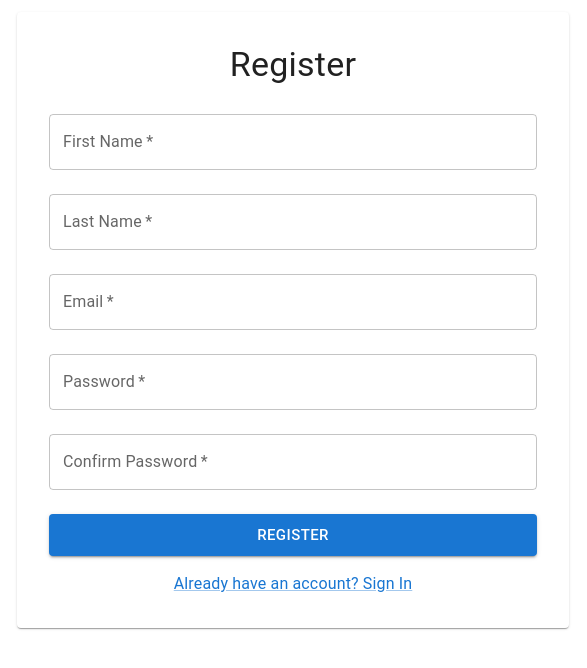
Test: RegisterPage › displays errors on registration failure
The image size is (587, 668).
Type "John" into the field labelled "First Name *" at point(293, 142), box [49,114,537,170]
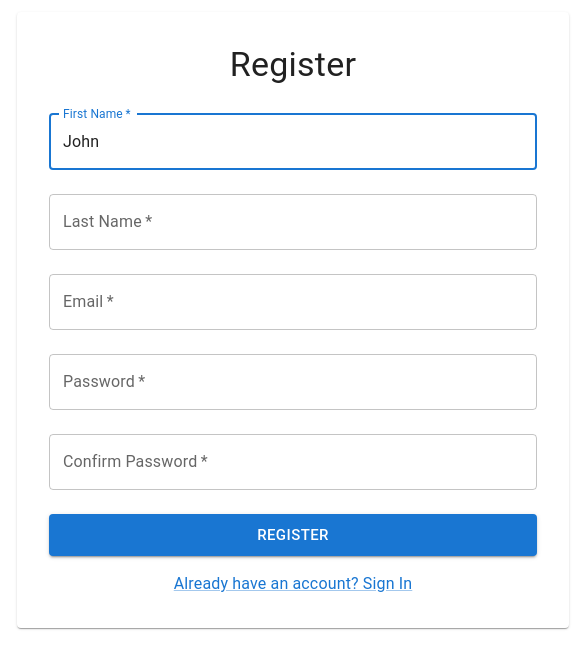
Type "Doe" into the field labelled "Last Name *" at point(293, 222), box [49,194,537,250]
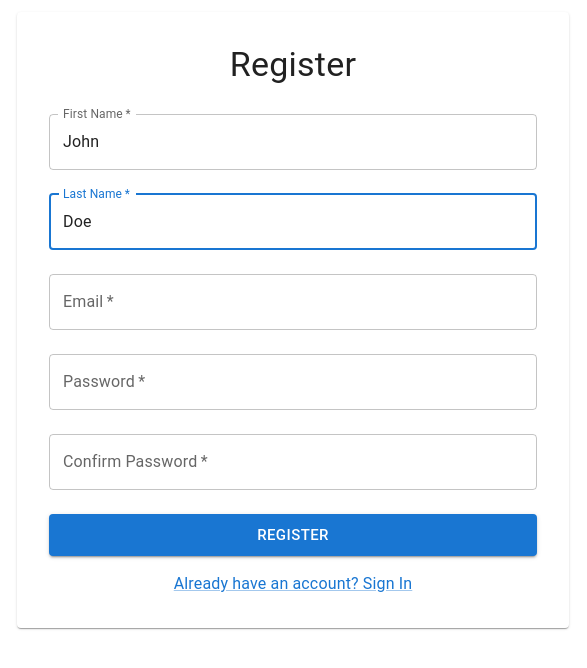
Type "taken@test.com" into the field labelled "Email *" at point(293, 302), box [49,274,537,330]
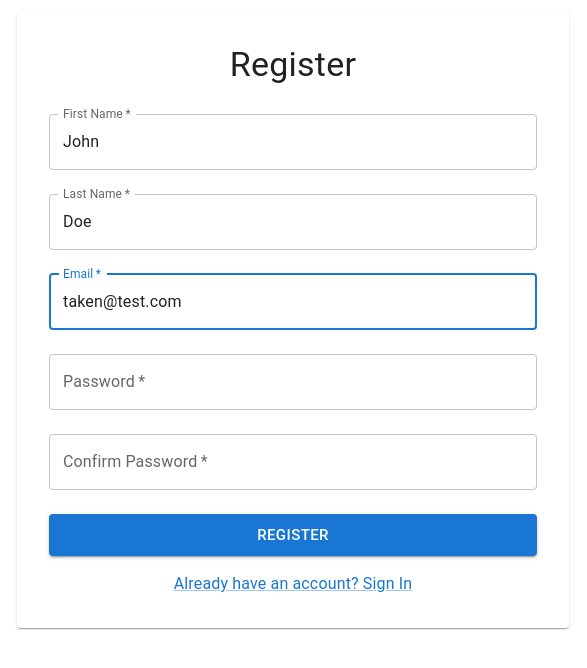
Type "password123" into the password field labelled "Password *" at point(293, 382), box [49,354,537,410]
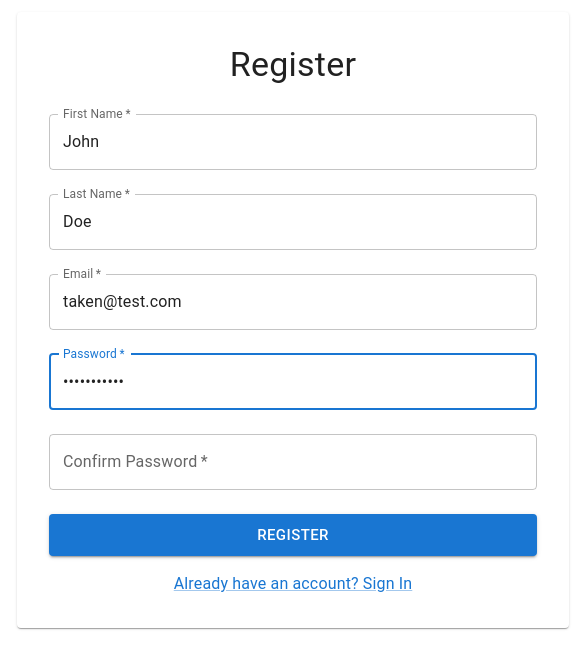
Type "password123" into the password field labelled "Confirm Password *" at point(293, 462), box [49,434,537,490]
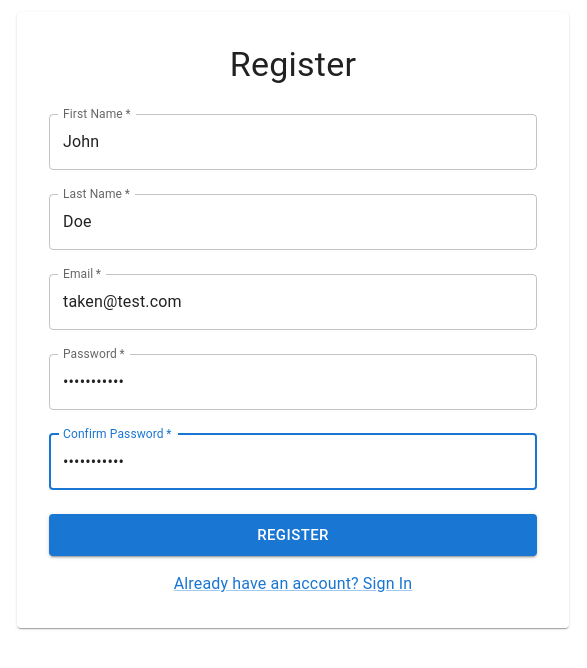
Click the button "Register" at point(293, 535), box [49,514,537,556]
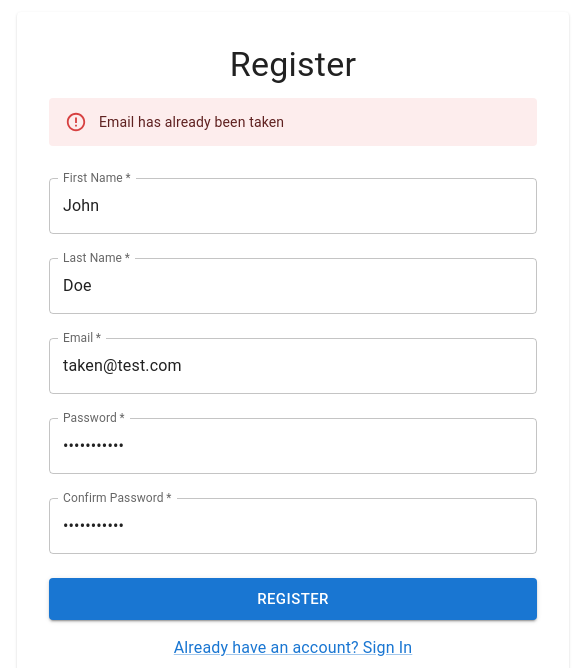
Now the text "Email has already been taken" is shown, box [99,112,284,132]
